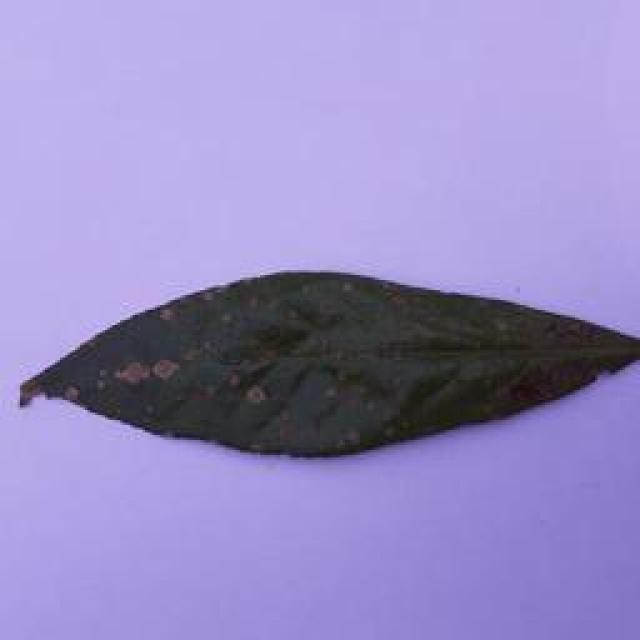Algal Leaf Spot: (6, 255, 640, 468)
